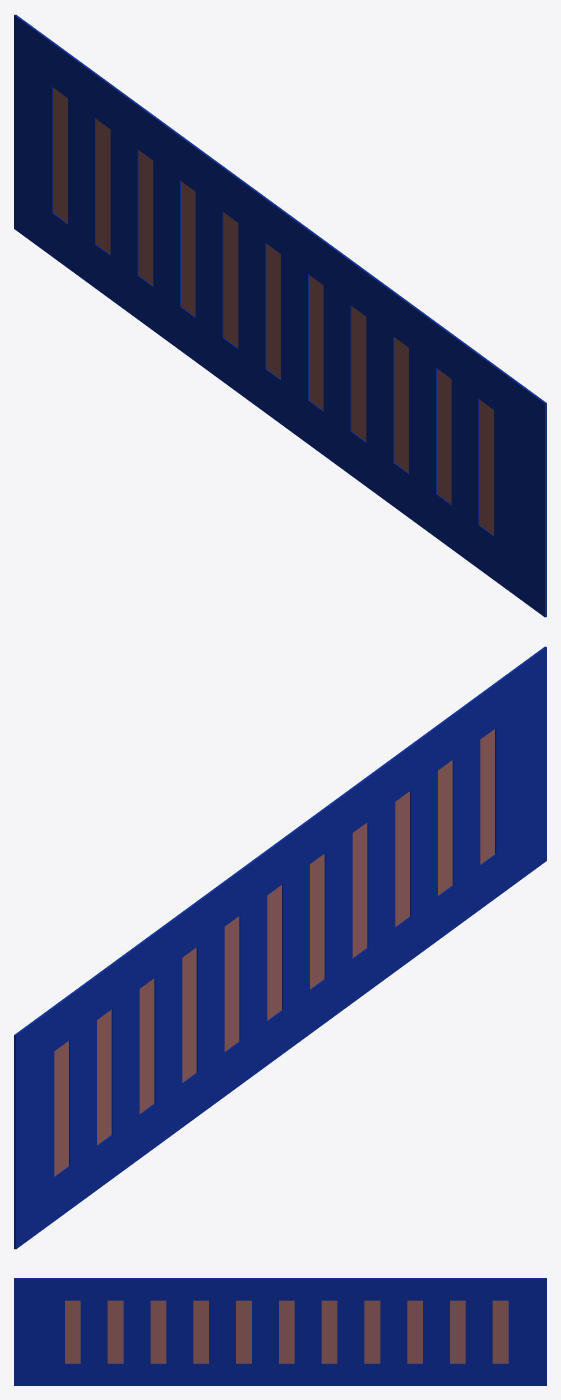
Rendered from 10x45 Rails.FBX.
The picture shows the model from 3 angles, top to bottom: view 1: azimuth 30°, elevation 25°; view 2: azimuth 150°, elevation 25°; view 3: azimuth 270°, elevation 25°; orthographic projection. The views are drawn at different scales.
Visible parts, largest first — view 1: Med Wall 10 Windows; view 2: Med Wall 10 Windows; view 3: Med Wall 10 Windows.
Part boxes in pixels (x1,y1,x2,y2): Med Wall 10 Windows: (14, 14, 546, 617); Med Wall 10 Windows: (14, 646, 546, 1249); Med Wall 10 Windows: (14, 1278, 546, 1385).
Size of the model in its own units: 0.1 by 10 by 45.
